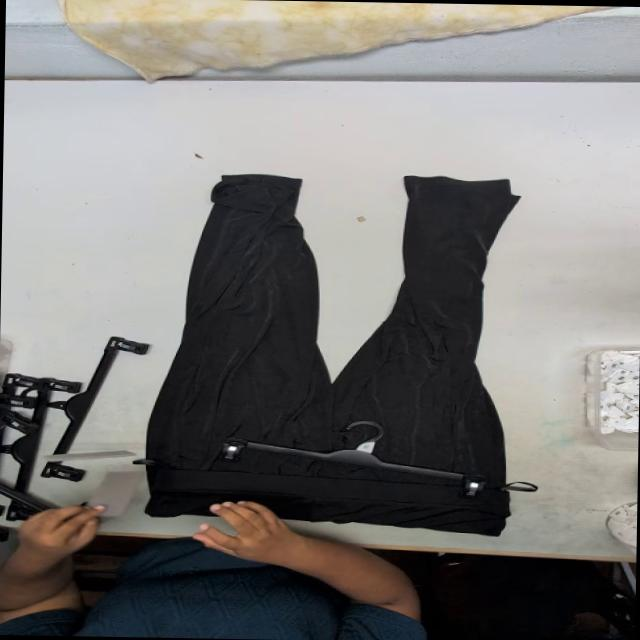new-garment: (145, 174, 518, 534)
